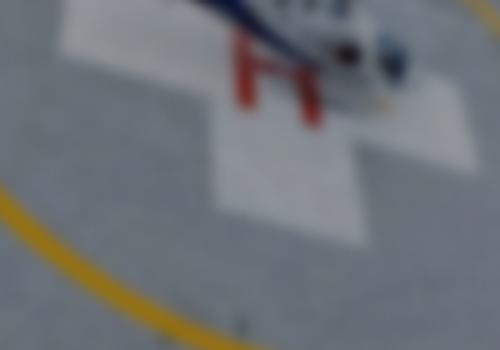Apron: (1, 1, 500, 350)
